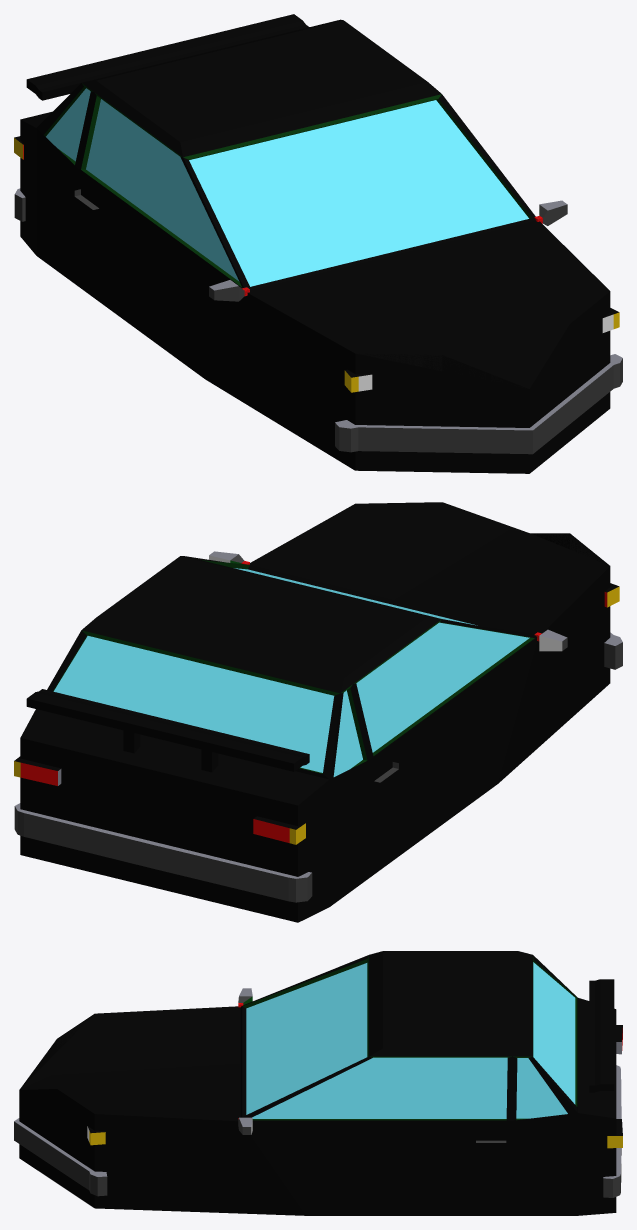
File: Black2.glb
The picture shows the model from 3 angles, top to bottom: view 1: azimuth 30°, elevation 25°; view 2: azimuth 150°, elevation 25°; view 3: azimuth 270°, elevation 25°; orthographic projection. The views are drawn at different scales.
Visible parts, largest first — view 1: SportBlack1; view 2: SportBlack1; view 3: SportBlack1.
Part boxes in pixels (x1,y1,x2,y2): SportBlack1: (14,14,622,473); SportBlack1: (14,502,622,922); SportBlack1: (14,951,622,1215).
Size of the model in its own units: 4.53 by 2.41 by 8.39.
1 material, 1 textured.
